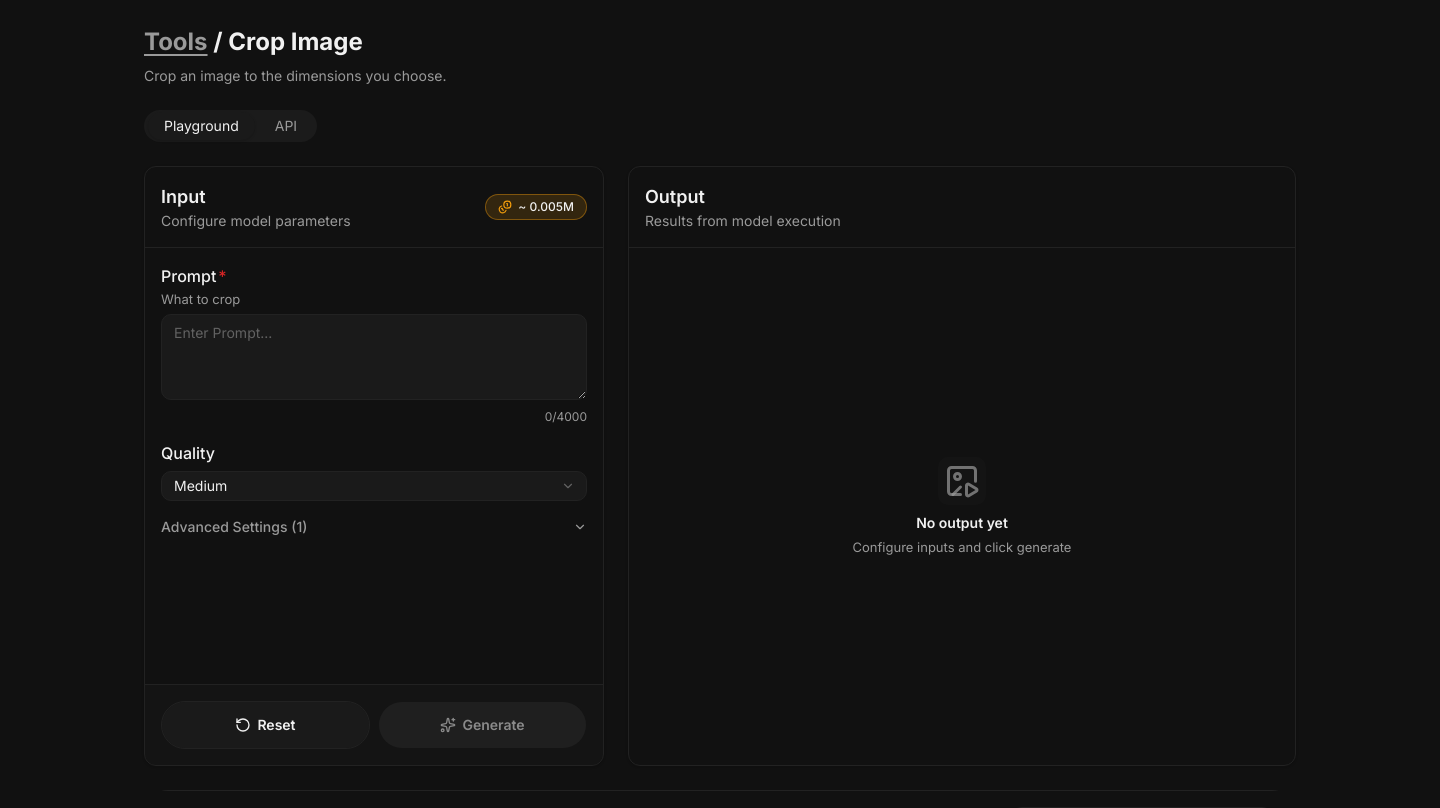
Test case: ToolDetail generate › Reset clears a typed field back to empty
Expected: the text "Prompt" is shown, [161,266,216,286]
Type "a red apple" into the text box with placeholder "Enter Prompt...".
click(374, 357); type("a red apple")  # box [161,314,587,400]
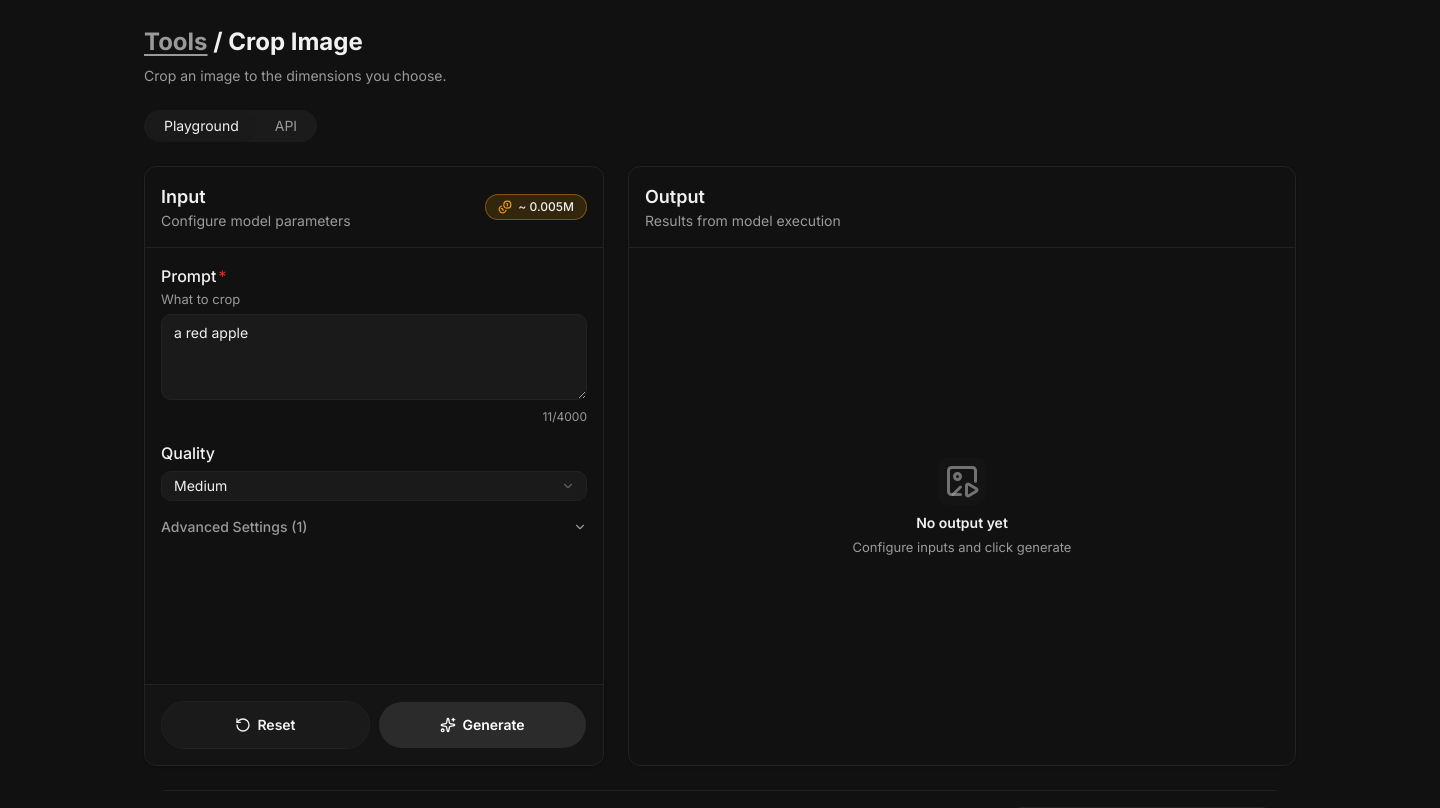
Click the button "Reset".
click(266, 725)  # box [161,701,370,749]
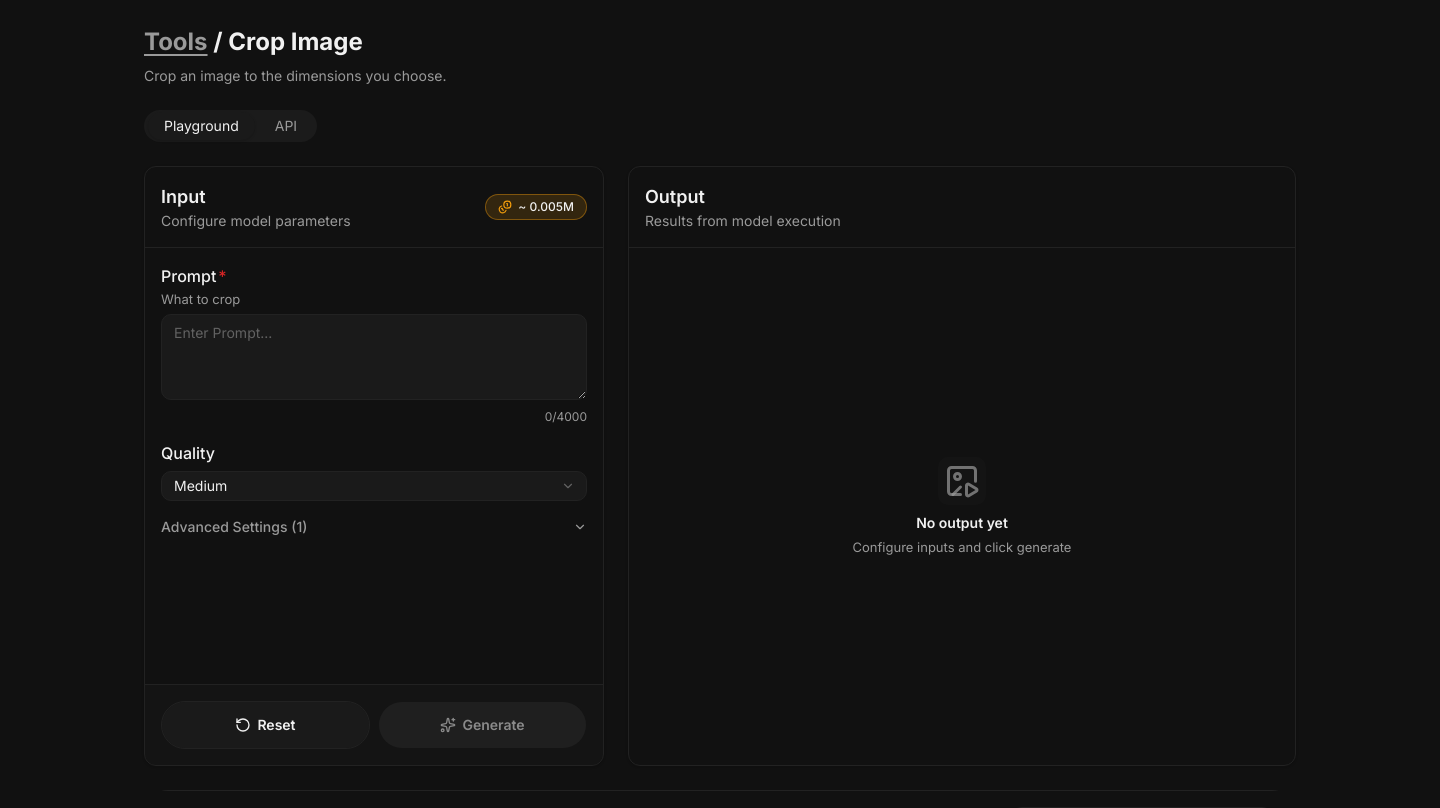
Now the text box with placeholder "Enter Prompt..." is empty, box [161,314,587,400]
